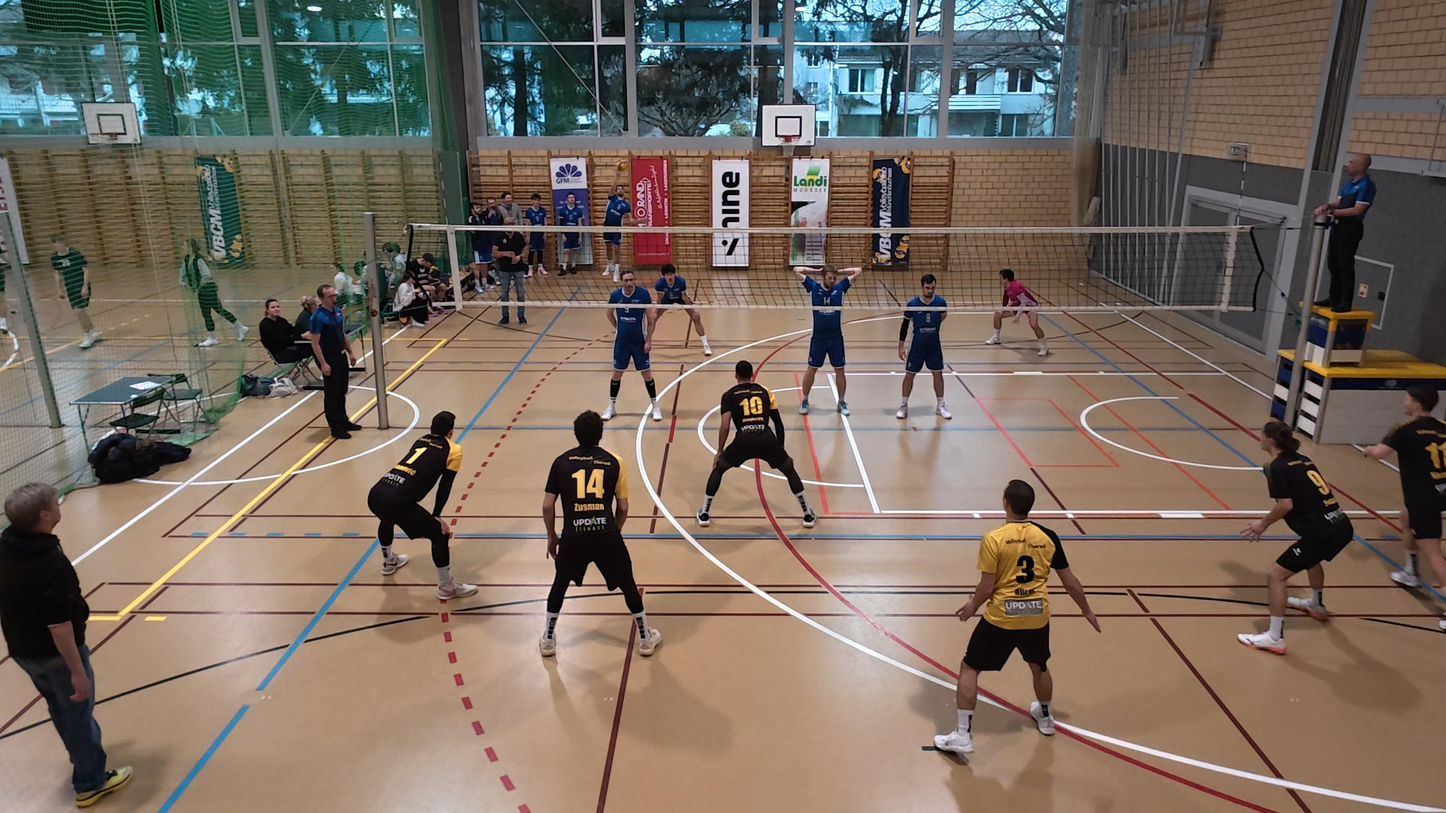Player: (930, 480, 1094, 760), (541, 411, 662, 657), (1238, 419, 1354, 653), (368, 411, 478, 602), (696, 361, 816, 527), (1370, 386, 1446, 631), (794, 263, 858, 416), (602, 269, 662, 421), (895, 275, 951, 420), (986, 268, 1051, 357), (651, 263, 711, 355)
Serve: (592, 146, 632, 283)
ball: (613, 157, 629, 173)
